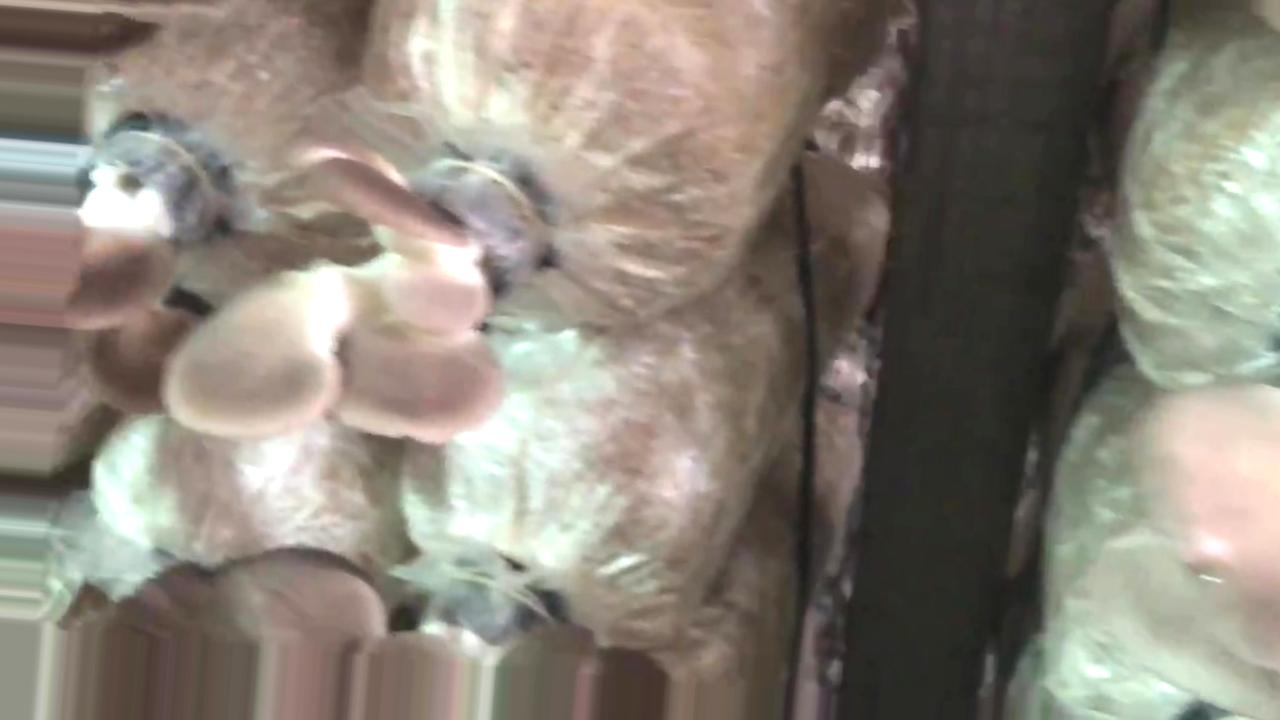nam: (164, 139, 538, 445), (52, 118, 218, 332)
